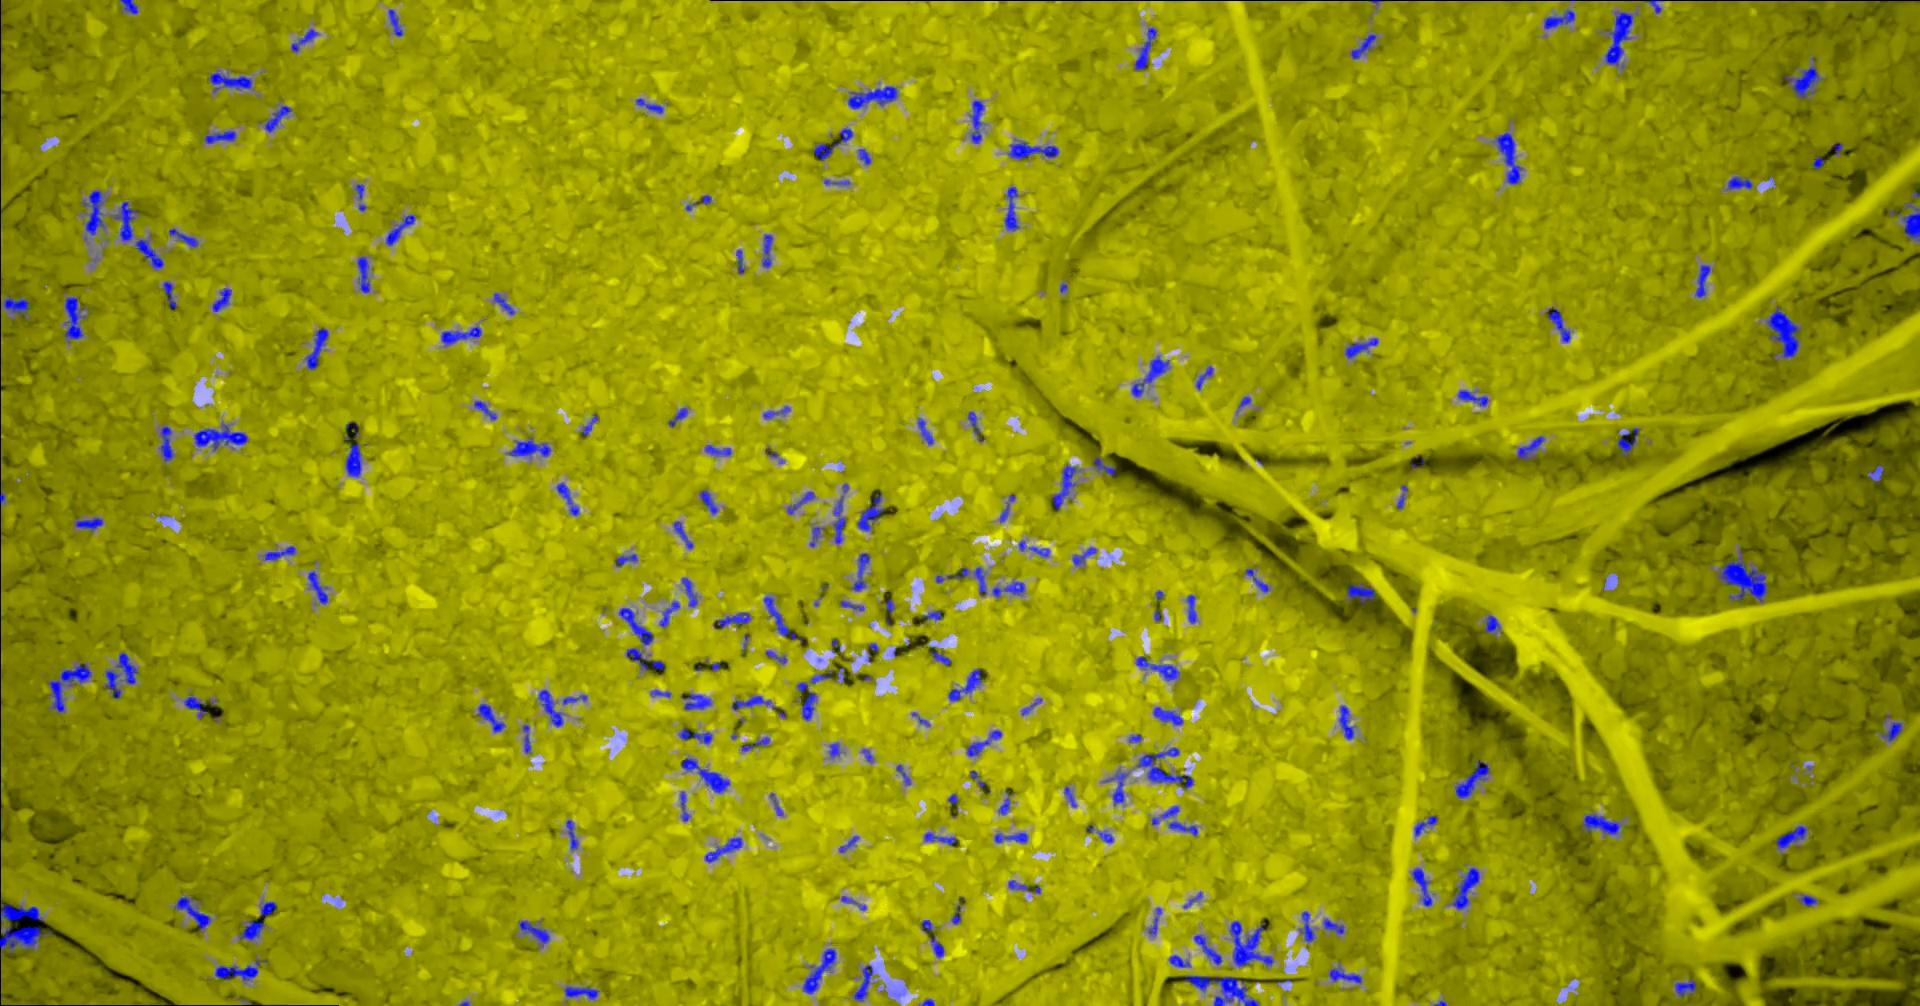ant: (1137, 747, 1192, 788), (47, 663, 91, 713), (1183, 976, 1258, 1005), (1229, 920, 1272, 967), (1604, 11, 1636, 69), (796, 669, 832, 720), (763, 596, 803, 641), (1766, 305, 1799, 357), (681, 757, 729, 793), (104, 652, 137, 699), (1131, 354, 1168, 396), (803, 948, 836, 993), (193, 423, 248, 450), (1495, 132, 1523, 184), (1454, 760, 1490, 798), (813, 127, 852, 160), (174, 895, 210, 930), (618, 607, 651, 644), (1451, 868, 1479, 909), (847, 85, 897, 108), (1783, 66, 1818, 98), (215, 959, 267, 981), (1051, 464, 1076, 509), (857, 492, 884, 531), (949, 668, 982, 700), (1135, 655, 1178, 680), (81, 191, 104, 235), (113, 201, 138, 240), (63, 296, 85, 342), (305, 326, 328, 370), (385, 213, 415, 245), (537, 688, 563, 727), (703, 837, 742, 862), (210, 69, 251, 91), (1134, 27, 1156, 70), (1007, 141, 1058, 159), (1192, 934, 1222, 964), (626, 647, 664, 669), (966, 730, 1001, 756), (1580, 813, 1619, 835), (1103, 771, 1128, 805), (507, 437, 550, 456), (1411, 868, 1432, 906), (135, 239, 163, 268), (476, 702, 504, 732), (1547, 307, 1570, 342), (518, 920, 549, 945), (183, 694, 215, 718), (439, 326, 481, 344), (1775, 826, 1807, 848), (1343, 337, 1377, 358), (556, 481, 578, 514), (264, 105, 291, 132), (1901, 202, 1919, 241), (1516, 434, 1543, 460), (851, 553, 869, 591), (853, 964, 872, 1000), (307, 570, 328, 603), (1350, 33, 1375, 58), (290, 28, 317, 51), (1617, 427, 1639, 455), (1328, 964, 1361, 983), (1004, 185, 1018, 230), (787, 492, 814, 514), (1543, 9, 1575, 28), (1346, 583, 1375, 603), (1244, 568, 1269, 592), (168, 227, 198, 246), (712, 612, 750, 627), (731, 695, 770, 710), (970, 100, 983, 144), (1694, 264, 1710, 297), (678, 727, 711, 743), (3, 295, 29, 315), (1457, 389, 1487, 406), (157, 426, 173, 461), (659, 601, 679, 627), (1152, 706, 1182, 724), (833, 495, 844, 542), (1150, 805, 1178, 824), (992, 580, 1023, 597), (1298, 911, 1314, 942), (345, 443, 361, 478), (935, 567, 969, 582), (673, 521, 692, 547), (1018, 540, 1049, 556), (262, 545, 295, 560), (681, 577, 697, 607), (356, 257, 370, 292), (211, 287, 231, 311), (698, 489, 717, 514), (1338, 705, 1352, 739), (923, 831, 957, 845), (563, 986, 599, 998), (493, 292, 514, 314), (681, 694, 711, 709), (1415, 815, 1437, 836), (917, 417, 933, 445), (1007, 879, 1040, 893), (472, 400, 497, 419), (239, 920, 263, 939), (968, 412, 983, 441), (1168, 821, 1197, 836), (1092, 456, 1115, 475), (1072, 546, 1095, 565), (204, 130, 235, 144), (999, 494, 1015, 522), (742, 735, 770, 751), (1145, 907, 1161, 935), (635, 98, 662, 113), (1195, 365, 1211, 389), (930, 647, 950, 666), (1881, 721, 1901, 741), (1674, 979, 1695, 997), (389, 9, 403, 36), (163, 281, 177, 307), (668, 406, 687, 426), (838, 835, 858, 852), (582, 413, 598, 434), (762, 405, 790, 418), (973, 567, 985, 594), (762, 232, 772, 267), (1726, 177, 1752, 189), (75, 517, 102, 530), (994, 832, 1027, 842), (1322, 918, 1343, 934), (615, 553, 637, 567), (1865, 464, 1883, 481), (809, 526, 824, 546), (895, 763, 910, 784), (764, 650, 786, 664), (679, 791, 690, 821), (566, 819, 577, 848), (1483, 615, 1500, 633), (969, 770, 985, 788), (998, 789, 1010, 814), (356, 183, 366, 211), (703, 445, 731, 455), (1186, 594, 1196, 622), (930, 936, 943, 956), (1168, 954, 1190, 967), (1396, 485, 1407, 508), (259, 901, 276, 916), (839, 600, 863, 610), (563, 694, 587, 704), (1064, 786, 1076, 807), (119, 0, 137, 13), (522, 724, 530, 753), (921, 608, 942, 619), (735, 249, 744, 273), (1644, 0, 1661, 13), (1798, 894, 1816, 906), (951, 901, 960, 923), (828, 742, 841, 757), (858, 149, 870, 164), (1812, 156, 1823, 169), (921, 920, 931, 931), (1865, 0, 1919, 1), (0, 0, 1, 51)
